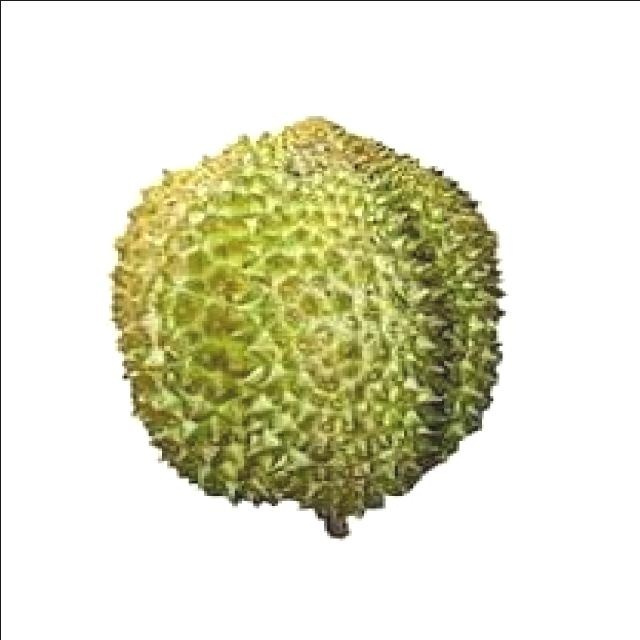agrume: (103, 95, 533, 547)
